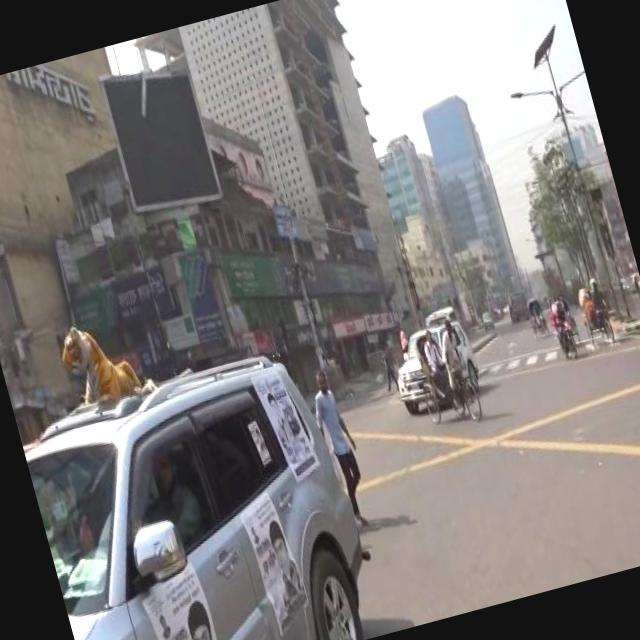bus: (509, 288, 533, 318)
car: (15, 332, 387, 640), (384, 314, 484, 410)
motorcycle: (408, 316, 486, 431), (574, 280, 617, 347), (524, 292, 551, 340), (555, 318, 581, 359)
